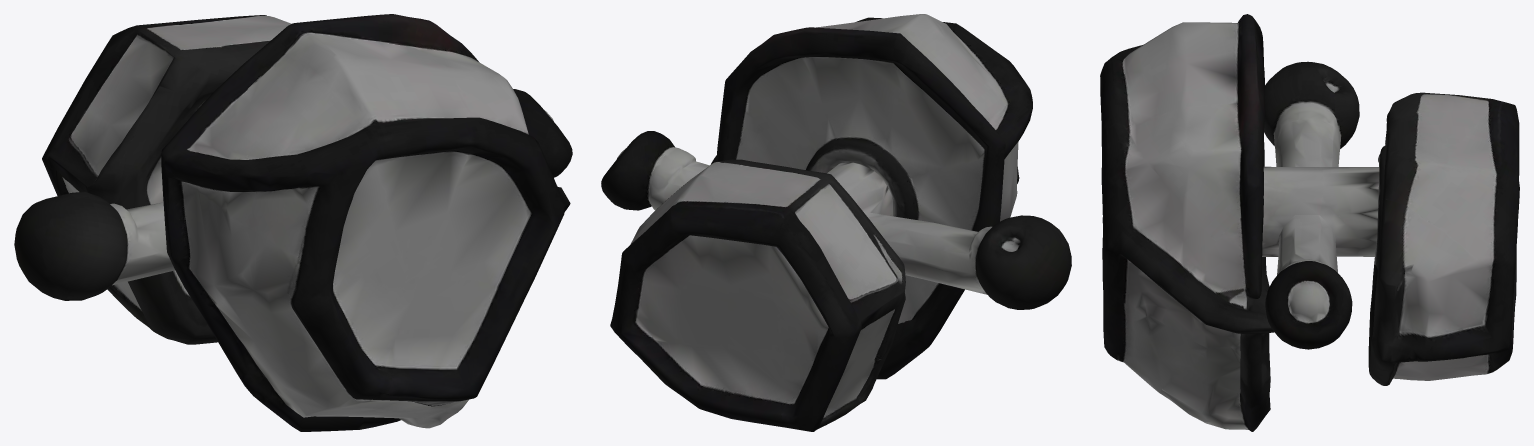
The model's file is dumbbell.glb.
3 renders of one model, left to right at view 1: azimuth 30°, elevation 25°; view 2: azimuth 150°, elevation 25°; view 3: azimuth 270°, elevation 25°, orthographic. The views are drawn at different scales.
Visible parts, largest first — view 1: tripo_node_d19f6bd1-389d-444d-981b-f85045f80dd4; view 2: tripo_node_d19f6bd1-389d-444d-981b-f85045f80dd4; view 3: tripo_node_d19f6bd1-389d-444d-981b-f85045f80dd4.
Boxes of the visible parts, x1,y1,x2,y2 form: tripo_node_d19f6bd1-389d-444d-981b-f85045f80dd4: (14, 14, 572, 431); tripo_node_d19f6bd1-389d-444d-981b-f85045f80dd4: (601, 14, 1071, 431); tripo_node_d19f6bd1-389d-444d-981b-f85045f80dd4: (1100, 14, 1519, 431).
Size of the model in its own units: 0.9994 by 0.7484 by 0.7704.
Materials: 1 (1 with a texture image).
